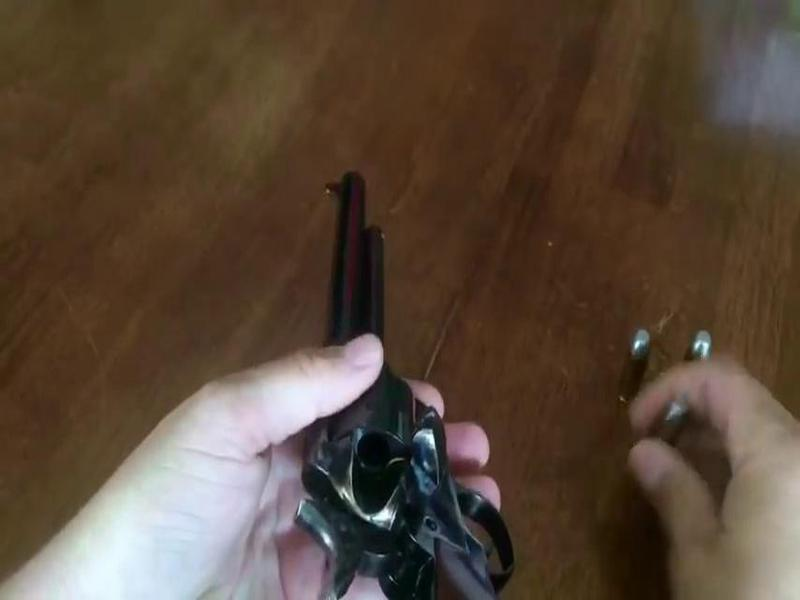Revolver: (287, 152, 501, 600)
